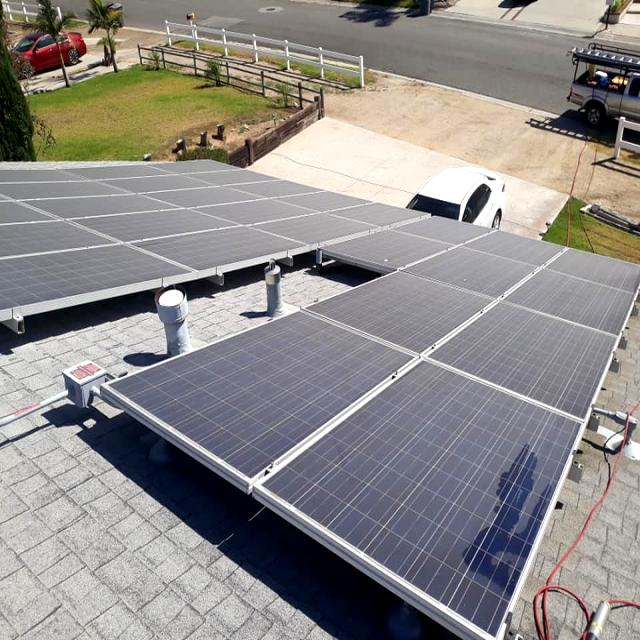dust: (367, 404, 528, 566), (9, 174, 172, 272), (220, 338, 322, 441), (189, 181, 309, 240), (504, 314, 578, 400), (356, 272, 428, 354), (446, 278, 488, 380), (364, 230, 408, 262)
